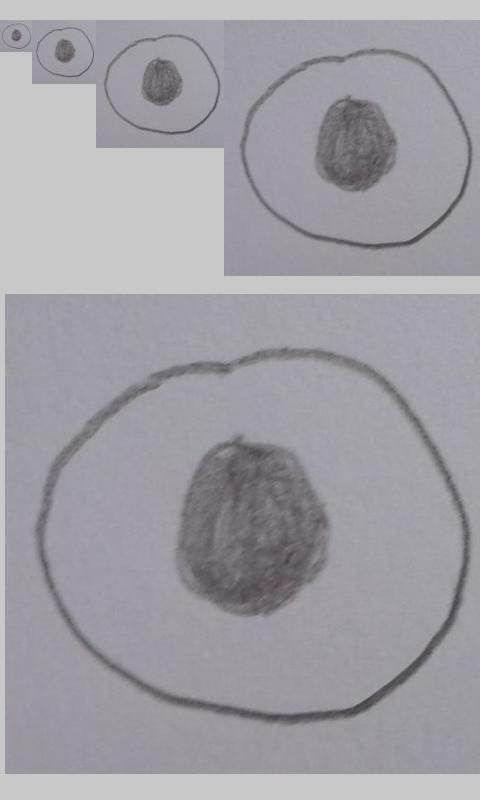radio_button: (32, 342, 473, 726), (238, 46, 473, 252), (102, 33, 221, 135), (35, 26, 95, 78), (1, 23, 32, 50)
